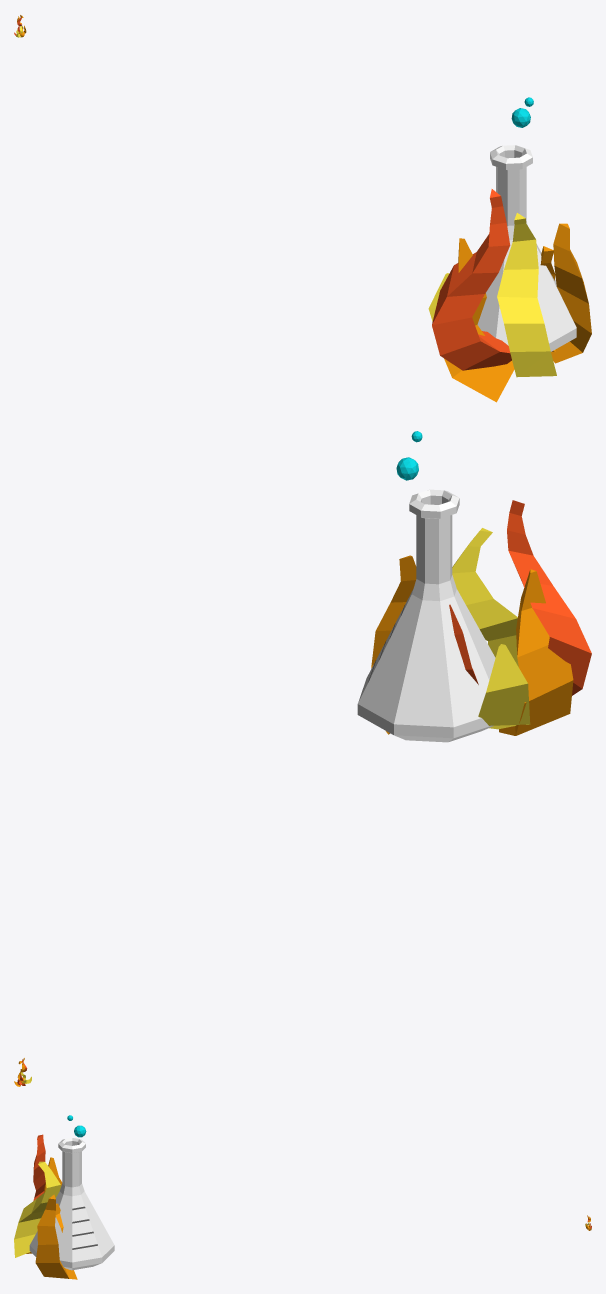
Rendered from dry_powder_fire.glb.
3 renders of one model, top to bottom at view 1: azimuth 30°, elevation 25°; view 2: azimuth 150°, elevation 25°; view 3: azimuth 270°, elevation 25°, orthographic. The views are drawn at different scales.
Visible parts, largest first — view 1: group167038055.001, Beaker_Icosphere, group1602184737.001, group627047762.001, group1762201146.001; view 2: Beaker_Icosphere, group1762201146.001, group167038055.001, group1602184737.001, group300155229.001, group627047762.001; view 3: Beaker_Icosphere, group627047762.001, group1602184737.001, group167038055.001.
Part boxes in pixels (x1,y1,x2,y2): group167038055.001: (432,189,511,370); Beaker_Icosphere: (477,97,576,351); group1602184737.001: (497,213,556,377); group627047762.001: (551,223,591,363); group1762201146.001: (444,238,514,402); Beaker_Icosphere: (357,431,495,742); group1762201146.001: (499,569,573,735); group167038055.001: (507,500,591,695); group1602184737.001: (452,528,518,667); group300155229.001: (478,644,530,729); group627047762.001: (371,555,416,734); Beaker_Icosphere: (29,1115,114,1270); group627047762.001: (35,1194,77,1279); group1602184737.001: (14,1161,60,1257); group167038055.001: (33,1134,45,1200).
Bounding box in the file's own units: 4.59 × 6.68 × 21.92.
